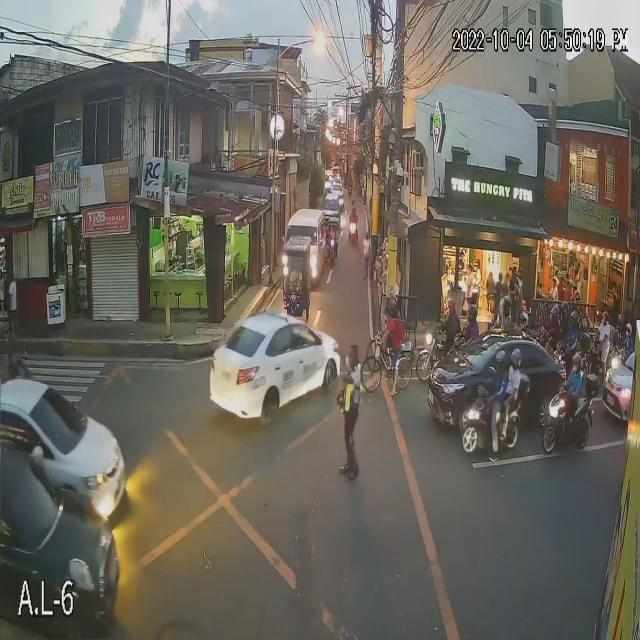helmet: (505, 346, 528, 376), (566, 353, 588, 381), (497, 295, 517, 321), (490, 351, 510, 376), (596, 305, 612, 330), (567, 305, 581, 330), (549, 301, 560, 331), (560, 296, 572, 321), (445, 296, 459, 317), (620, 321, 635, 339), (519, 310, 532, 328), (467, 306, 479, 324)
motorcycle: (453, 383, 536, 459), (539, 383, 601, 452), (422, 328, 456, 371), (341, 221, 361, 253)
rider: (480, 345, 512, 411), (501, 337, 530, 399), (564, 353, 587, 418), (595, 307, 617, 362), (463, 293, 486, 344), (542, 301, 568, 341), (564, 310, 588, 352), (440, 293, 461, 339), (616, 317, 638, 360), (495, 293, 514, 336), (554, 294, 574, 331), (512, 308, 530, 338), (345, 204, 360, 237)
